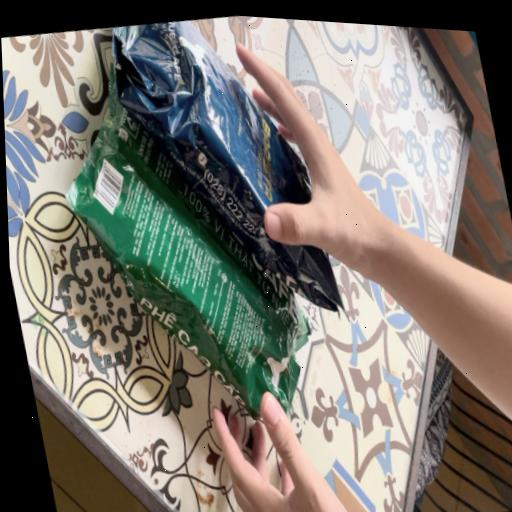cafe_hat: (111, 20, 342, 311)
cafe_xay: (65, 132, 308, 417)
